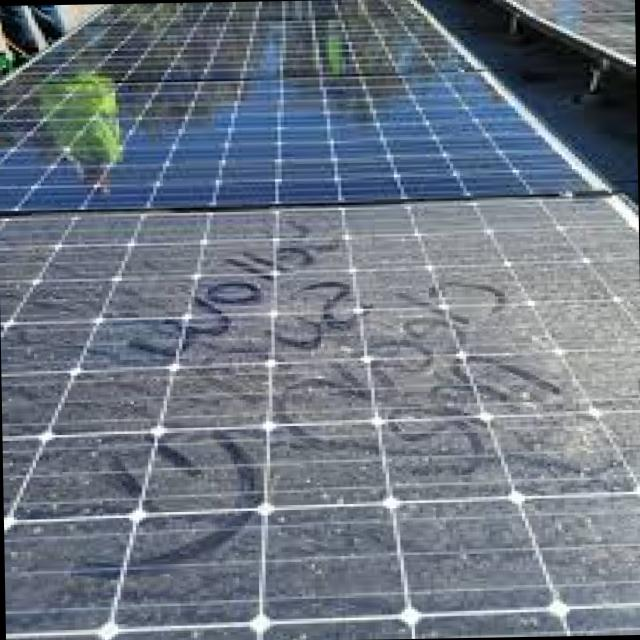faulty: (12, 203, 632, 640)
no faulty: (0, 0, 580, 208)
